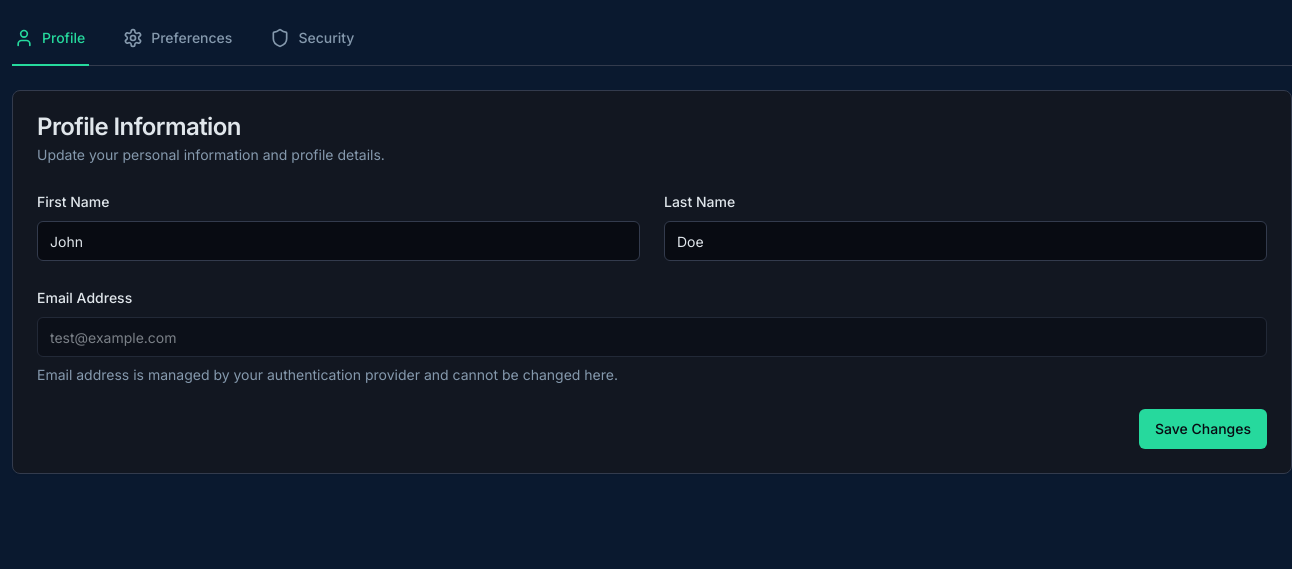
Test case: UserProfile › Profile Form › handles profile update errors
Click the button "Save Changes": {"x": 1203, "y": 429} [1139,409,1267,449]
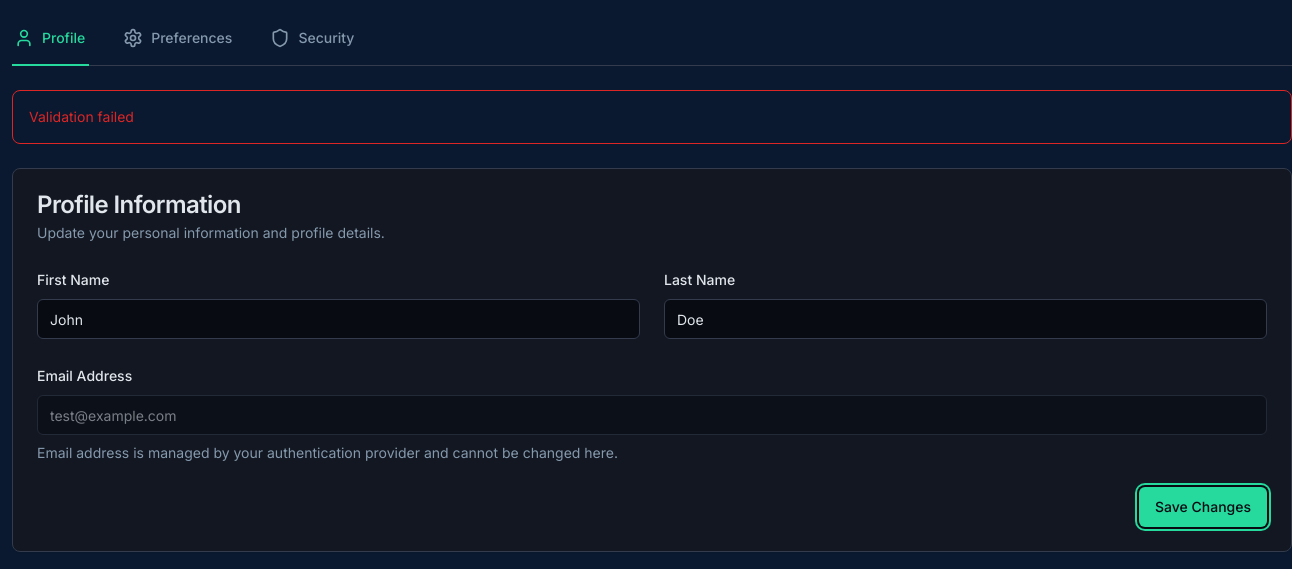
expect the text "Validation failed" is shown: met, box [29,108,134,125]
